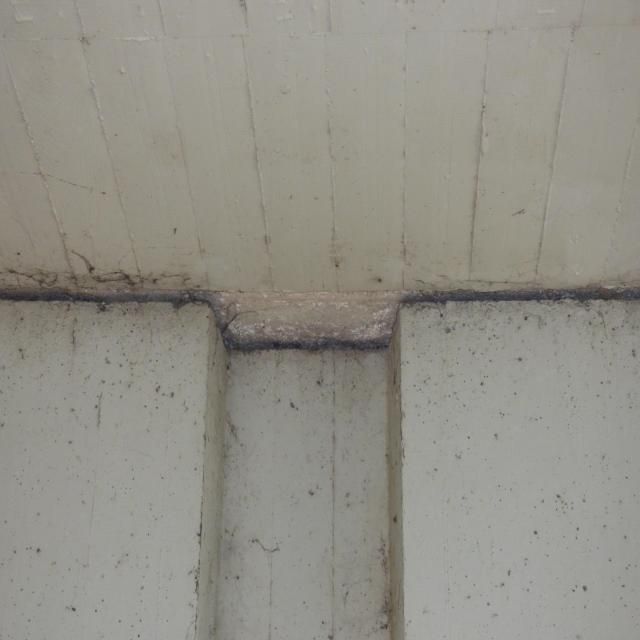horizontal crack: (0, 250, 211, 294), (213, 300, 322, 360)
